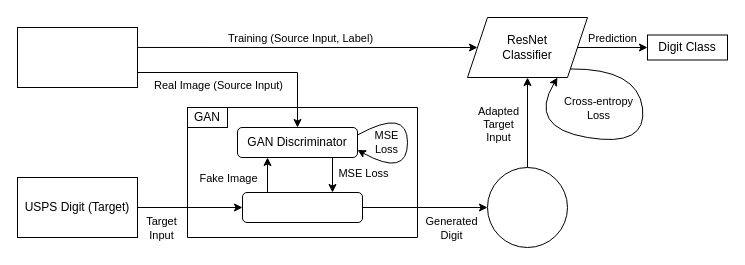
The diagram is 745 pixels wide and 265 high, and some of its shapes have lost their labels. The centre of each missing label's shape, as x and y in pixels:
"Adapted Digit (GAN Output)" goes at pixel 527 207.
"GAN Generator" goes at pixel 302 207.
"Mnist Digit (Source)" goes at pixel 77 57.
